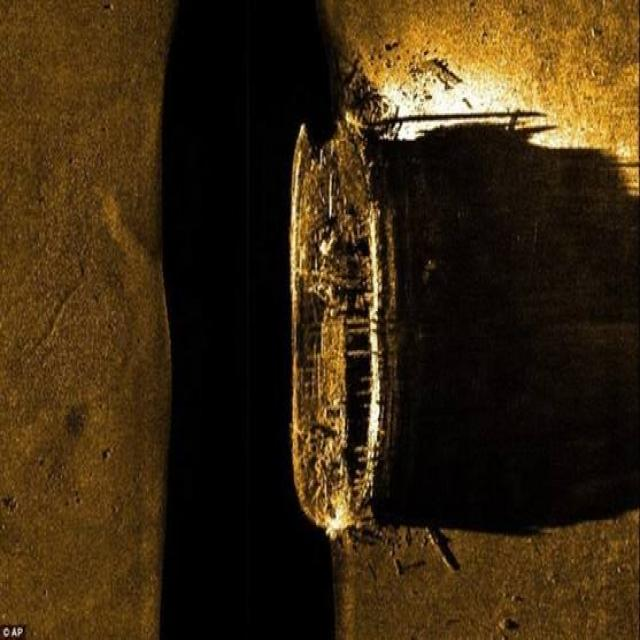ship: (288, 114, 396, 541)
